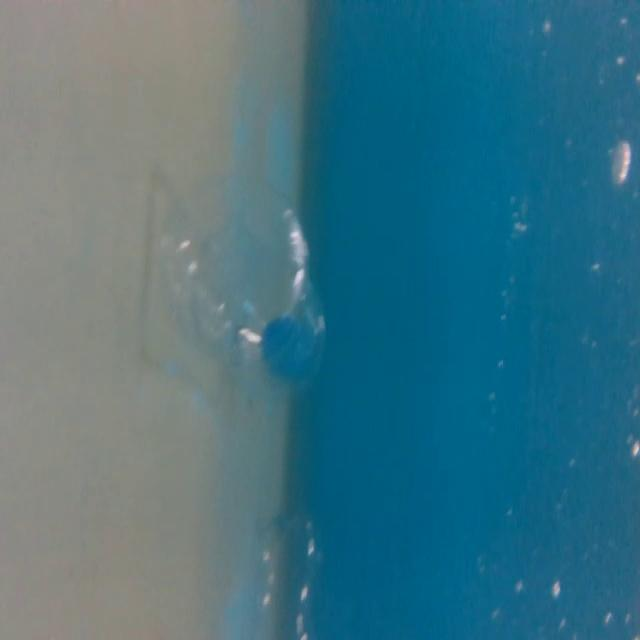plastic bottle: (145, 161, 346, 403), (245, 499, 329, 640)
